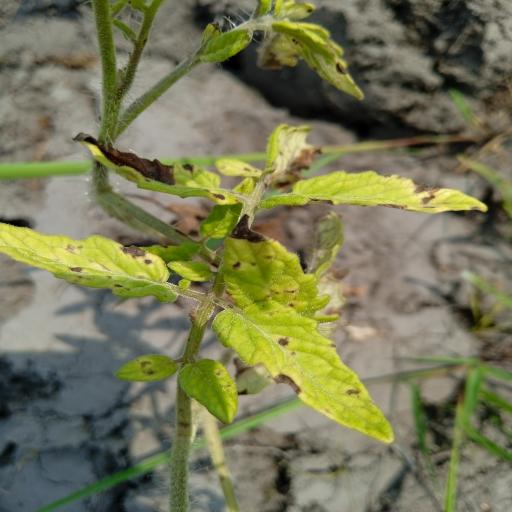Tomato_Brown_Spots: (214, 293, 401, 447), (0, 214, 190, 306)
